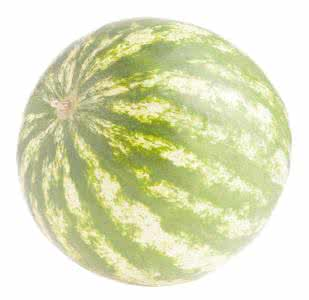watermelon: (23, 20, 290, 283)
